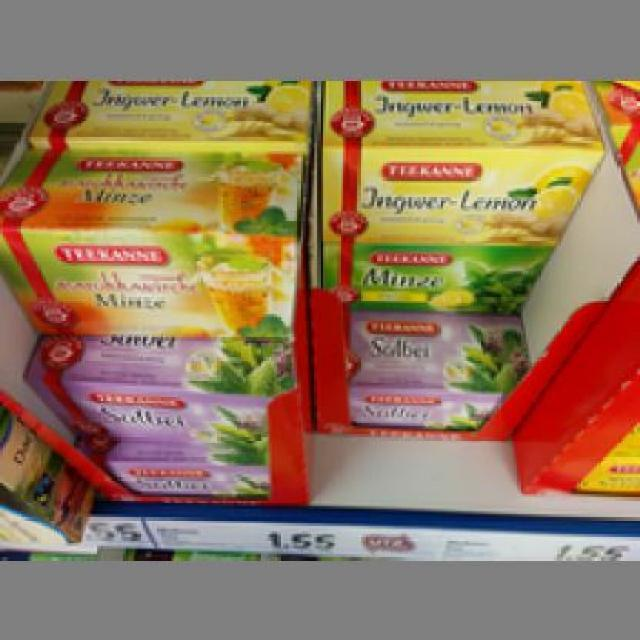Tea: (0, 143, 297, 337), (317, 77, 606, 237), (19, 334, 292, 452), (336, 308, 530, 426)
